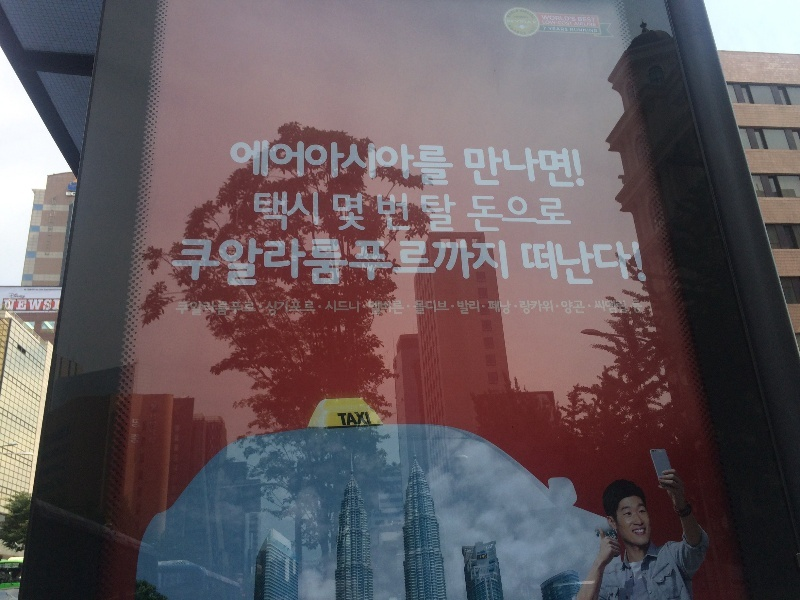text: (177, 238, 192, 291), (193, 238, 208, 291), (209, 238, 224, 291), (225, 238, 240, 291), (241, 238, 256, 291), (257, 238, 272, 291), (273, 238, 288, 291), (289, 238, 304, 291), (305, 238, 320, 291), (321, 238, 336, 291), (337, 238, 352, 291), (353, 238, 368, 291), (369, 238, 384, 291), (385, 238, 400, 291), (401, 238, 416, 291), (417, 238, 432, 291), (433, 238, 448, 291), (449, 238, 464, 291), (465, 238, 480, 291), (481, 238, 496, 291), (241, 139, 256, 188), (257, 139, 272, 188), (273, 139, 288, 188), (289, 139, 304, 188), (305, 139, 320, 188), (321, 139, 336, 188), (337, 139, 352, 188), (353, 139, 368, 188), (369, 139, 384, 188), (385, 139, 400, 188), (401, 139, 416, 188), (417, 139, 432, 188), (433, 139, 448, 188), (529, 241, 544, 287), (545, 241, 560, 287), (561, 241, 576, 287), (577, 241, 592, 287), (593, 241, 608, 287), (609, 241, 624, 287), (625, 241, 640, 287), (497, 238, 510, 291), (465, 146, 480, 191), (481, 146, 496, 191), (497, 146, 512, 191), (513, 146, 528, 191), (529, 146, 544, 191), (545, 146, 560, 191), (561, 146, 576, 191), (305, 191, 321, 233), (257, 191, 272, 233), (273, 191, 288, 233), (289, 191, 304, 233), (337, 193, 352, 235), (353, 193, 368, 235), (369, 193, 384, 235), (385, 193, 400, 235), (401, 193, 416, 235), (417, 193, 432, 235), (433, 193, 448, 235), (481, 194, 496, 236), (497, 194, 512, 236), (513, 194, 528, 236), (529, 194, 544, 236), (545, 194, 560, 236), (466, 194, 480, 236), (561, 194, 574, 236), (229, 139, 240, 188), (519, 241, 528, 287), (577, 146, 586, 191), (449, 193, 458, 235), (641, 241, 648, 287), (337, 411, 352, 428), (353, 411, 368, 428), (449, 139, 454, 188), (177, 301, 192, 316), (193, 301, 208, 316), (209, 301, 224, 316), (225, 301, 240, 316), (241, 301, 256, 316), (273, 301, 288, 316), (289, 301, 304, 316), (369, 301, 384, 316), (385, 301, 400, 316), (417, 300, 432, 315), (433, 300, 448, 315), (465, 300, 480, 315), (529, 300, 544, 315), (561, 300, 576, 315), (609, 300, 624, 315), (337, 300, 352, 314), (497, 301, 512, 315), (594, 300, 608, 315), (17, 299, 32, 312), (33, 299, 48, 312), (3, 299, 16, 312), (332, 193, 336, 235), (305, 301, 316, 316), (519, 300, 528, 315), (545, 300, 554, 315), (577, 300, 586, 315), (461, 146, 464, 191), (630, 301, 640, 314), (327, 300, 336, 314), (253, 191, 256, 233), (488, 301, 496, 315), (457, 300, 464, 315), (545, 15, 560, 22), (561, 15, 576, 22), (353, 300, 360, 314), (266, 301, 272, 316), (545, 26, 560, 32), (545, 20, 560, 26), (66, 191, 80, 197), (578, 17, 592, 23), (577, 28, 592, 33), (577, 22, 592, 27), (561, 20, 573, 26), (513, 19, 527, 24), (369, 411, 373, 428), (49, 299, 54, 312), (17, 293, 26, 300), (401, 301, 405, 316), (9, 293, 16, 300), (625, 300, 628, 315), (561, 26, 568, 32), (414, 300, 416, 315), (570, 28, 576, 33), (641, 301, 643, 314), (507, 19, 512, 24), (593, 28, 598, 33), (529, 21, 537, 24), (541, 15, 544, 22), (593, 22, 597, 27), (593, 17, 596, 23), (449, 300, 450, 315), (542, 20, 544, 26), (543, 26, 544, 32), (575, 22, 576, 27)
